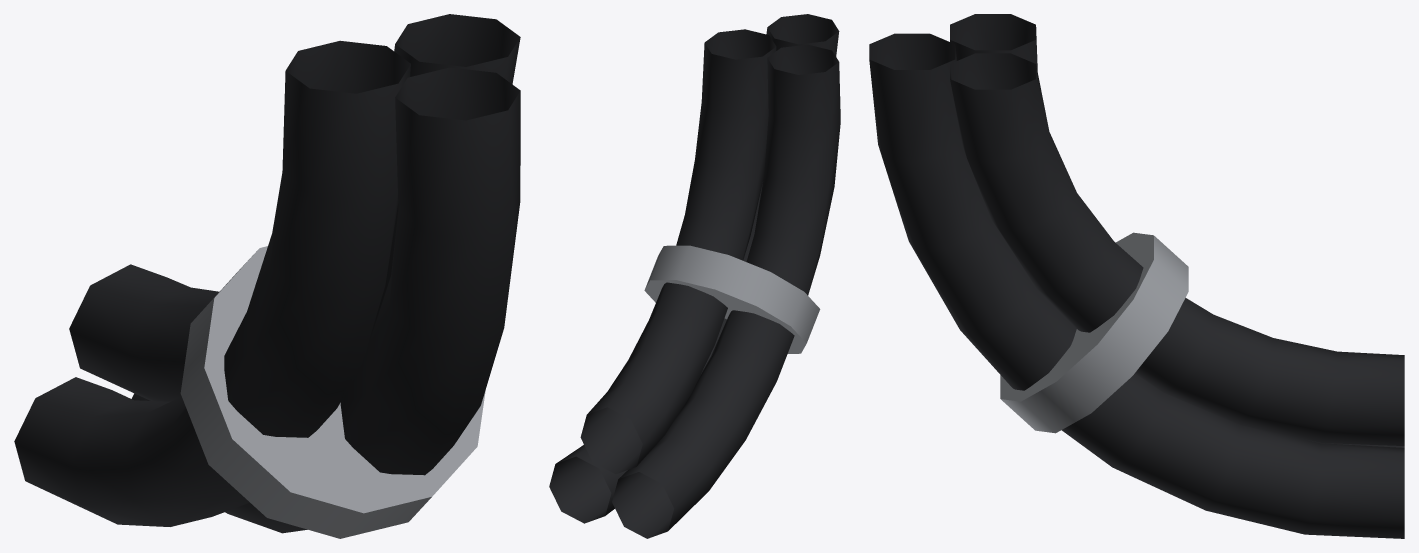
The model's file is bend_up_north.obj.
3 renders of one model, left to right at view 1: azimuth 30°, elevation 25°; view 2: azimuth 150°, elevation 25°; view 3: azimuth 270°, elevation 25°, orthographic. The views are drawn at different scales.
Visible parts, largest first — view 1: bend_up_north; view 2: bend_up_north; view 3: bend_up_north.
Boxes of the visible parts, <box> form: bend_up_north: <box>14,14,520,538</box>; bend_up_north: <box>549,14,840,538</box>; bend_up_north: <box>869,14,1404,538</box>.
Bounding box in the file's own units: 0.2475 × 0.5833 × 0.6104.
